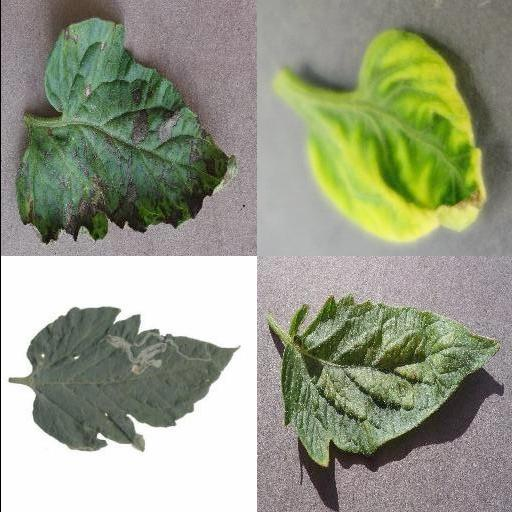Early Blight: (12, 17, 240, 247)
Leaf Miner: (25, 307, 239, 454)
Spider Mites: (279, 294, 501, 468)
Yellow Leaf Curl Virus: (303, 27, 485, 244)
